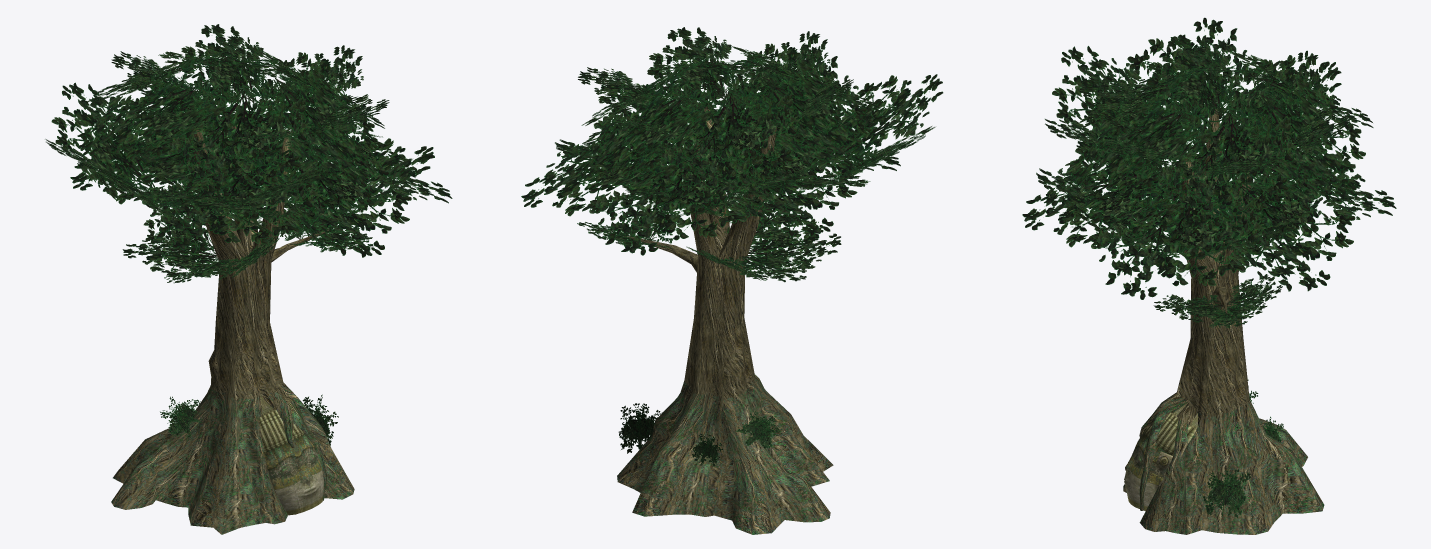
Rendered from swmp_decd_sacredtree_l1.fbx.
3 views of the same model, side by side, from view 1: azimuth 30°, elevation 25°; view 2: azimuth 150°, elevation 25°; view 3: azimuth 270°, elevation 25° (orthographic). The views are drawn at different scales.
Parts seen in each view (by area): view 1: mesh_node; view 2: mesh_node; view 3: mesh_node.
Part boxes in pixels (x1,y1,x2,y2): mesh_node: (45,24,452,534); mesh_node: (521,27,943,534); mesh_node: (1022,17,1396,534).
Bounding box in the file's own units: 40.53 × 41.88 × 37.48.
